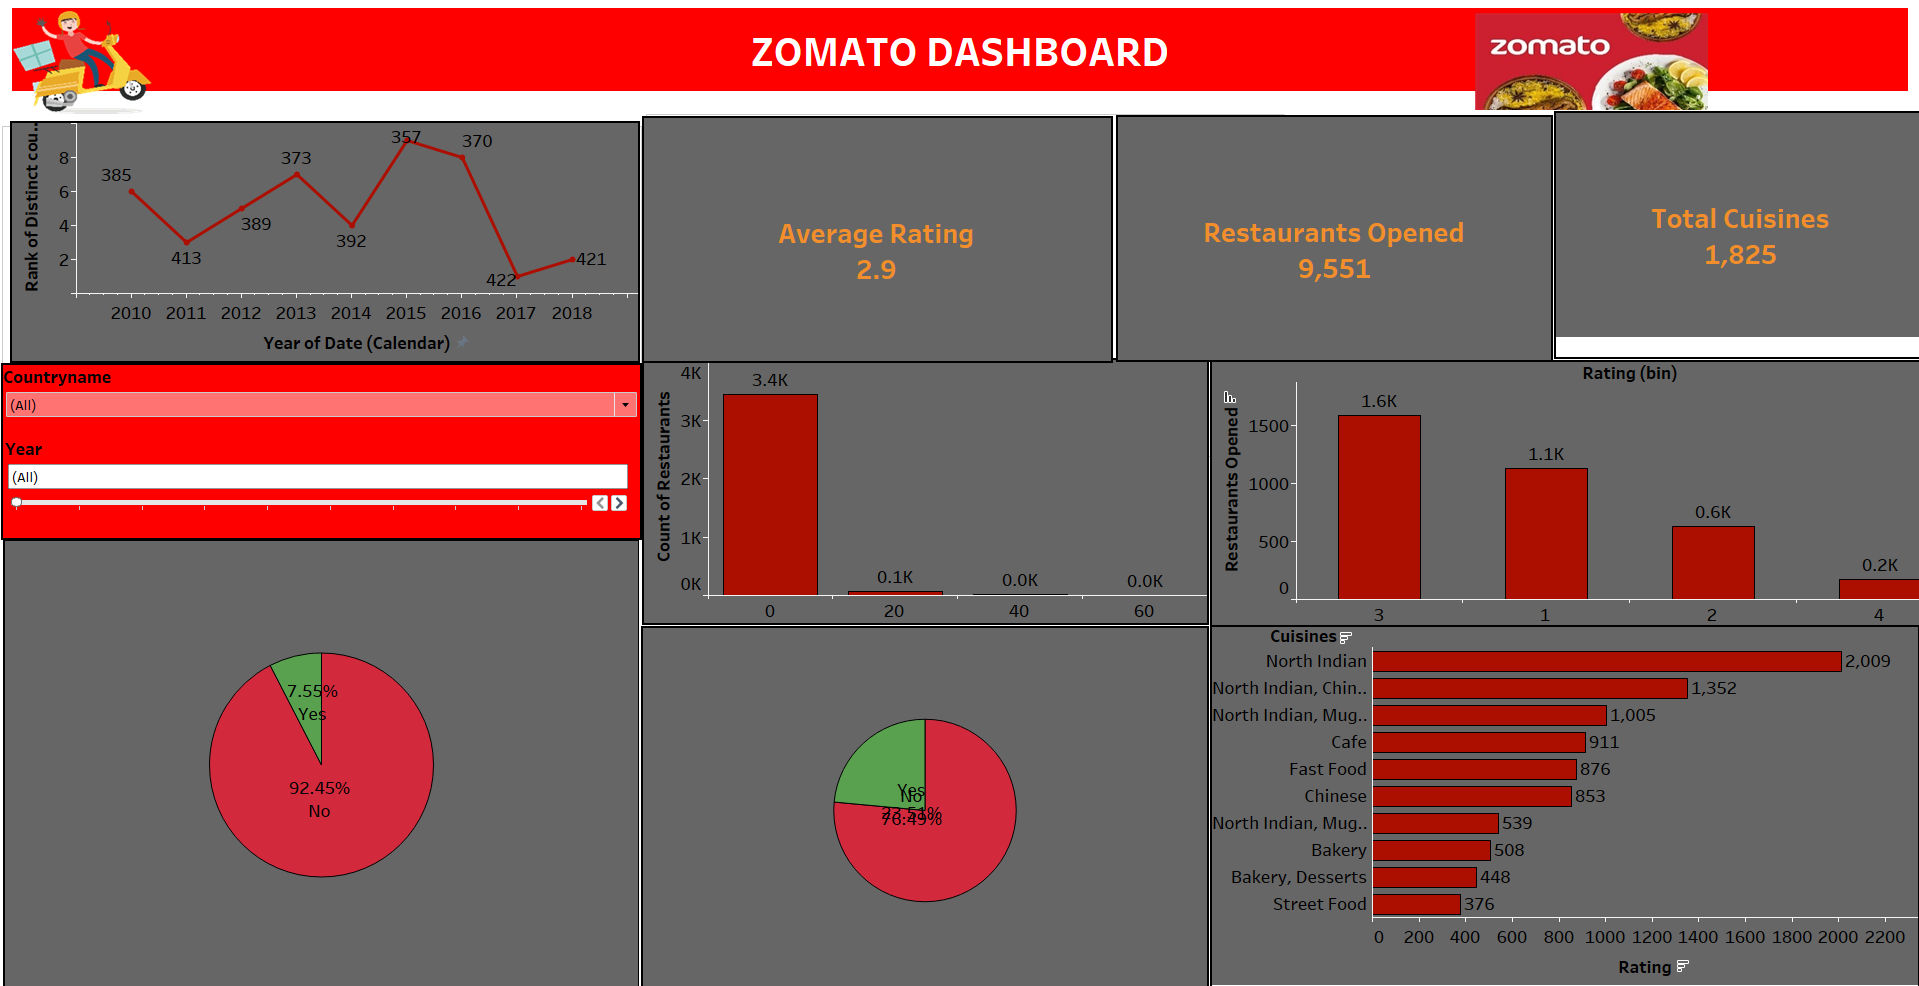

What the dashboard file says about the page in this screenshot:
{"tool":"tableau","page":{"name":"Zomato Dashboard","canvas":[1000,1000],"units":"permille","ordinal":0},"visuals":[{"type":"title","box":[4.8,10,990.3,113.6]},{"type":"image","param":"Image/Picture1.png","box":[6.7,15,348.5,103.6]},{"type":"image","param":"Image/Picture2.jpg","box":[768.1,17.5,223.4,97.4]},{"type":"worksheet","title":"Restaurants Opened","mark":"Automatic","box":[581.1,119.9,227.7,248.4]},{"type":"worksheet","title":"Average Rating","mark":"Automatic","box":[334.6,121.1,245.3,248.4]},{"type":"worksheet","title":"Restaurant Count by year, quarter, month","mark":"Automatic","rows":["RestaurantID"],"cols":["Date (Calendar)"],"box":[5.5,126.1,327.9,243.5]},{"type":"worksheet","title":"Restaurants by reasonable price(USD)","mark":"Automatic","rows":["RestaurantID"],"cols":["usd conversion (bin)"],"box":[334.3,364.5,295.1,268.4]},{"type":"filter","title":"Restaurant Count by year, quarter, month","param":"[federated.059zkyd1o69yb41dkhhzi0cy4kym].[none:Countryname:nk]","box":[0.6,369.5,333.9,178.5]},{"type":"filter","title":"Restaurant Count by year, quarter, month","param":"[federated.059zkyd1o69yb41dkhhzi0cy4kym].[none:Year:ok]","box":[2.4,444.4,326.1,104.9]},{"type":"worksheet","title":"Percentage of Restaurants on Table Booking","mark":"Pie","box":[1.8,546.8,331.5,455.7]}]}

Visuals, with their boxes on the dashboard's canvas, which has no fixed pixel size, in thousandths of its width and height (x1, y1, x2, y2). These are canvas units, not pixel positions in the 1919x986 screenshot, which may show the page scaled, cropped or inside an application window:
title: [5,10,995,124]
image: [7,15,355,119]
image: [768,18,992,115]
"Restaurants Opened" worksheet: [581,120,809,368]
"Average Rating" worksheet: [335,121,580,370]
"Restaurant Count by year, quarter, month" worksheet: [6,126,333,370]
"Restaurants by reasonable price(USD)" worksheet: [334,364,629,633]
"Restaurant Count by year, quarter, month" filter: [1,370,334,548]
"Restaurant Count by year, quarter, month" filter: [2,444,328,549]
"Percentage of Restaurants on Table Booking" worksheet (Pie marks): [2,547,333,1002]
